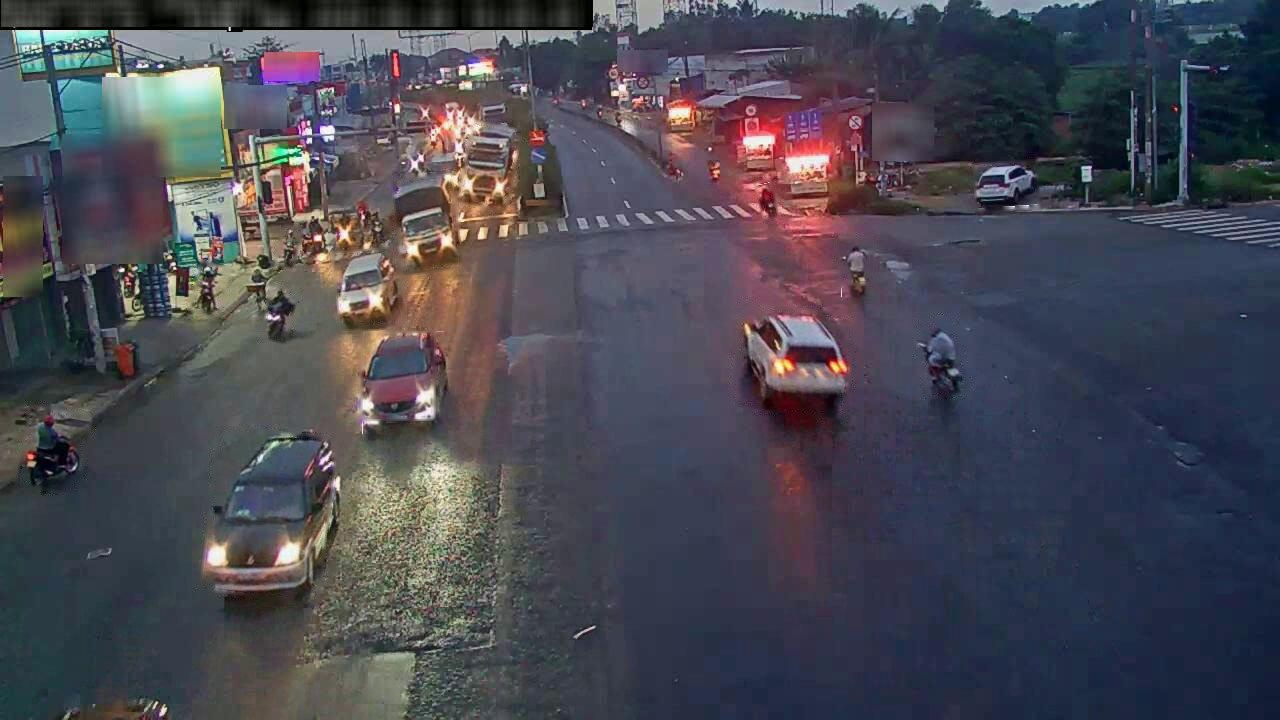Car: (202, 431, 341, 596), (743, 314, 848, 409), (357, 333, 448, 434), (337, 252, 398, 326), (975, 165, 1037, 206)
Motorcyclist: (25, 414, 80, 490), (917, 328, 963, 397), (266, 290, 295, 340), (197, 264, 219, 313), (845, 246, 866, 297), (281, 227, 298, 267), (759, 183, 777, 218)
Traffic light: (390, 50, 400, 77)
Truck: (773, 97, 873, 212), (393, 179, 456, 265), (460, 125, 513, 203), (667, 101, 695, 132)
